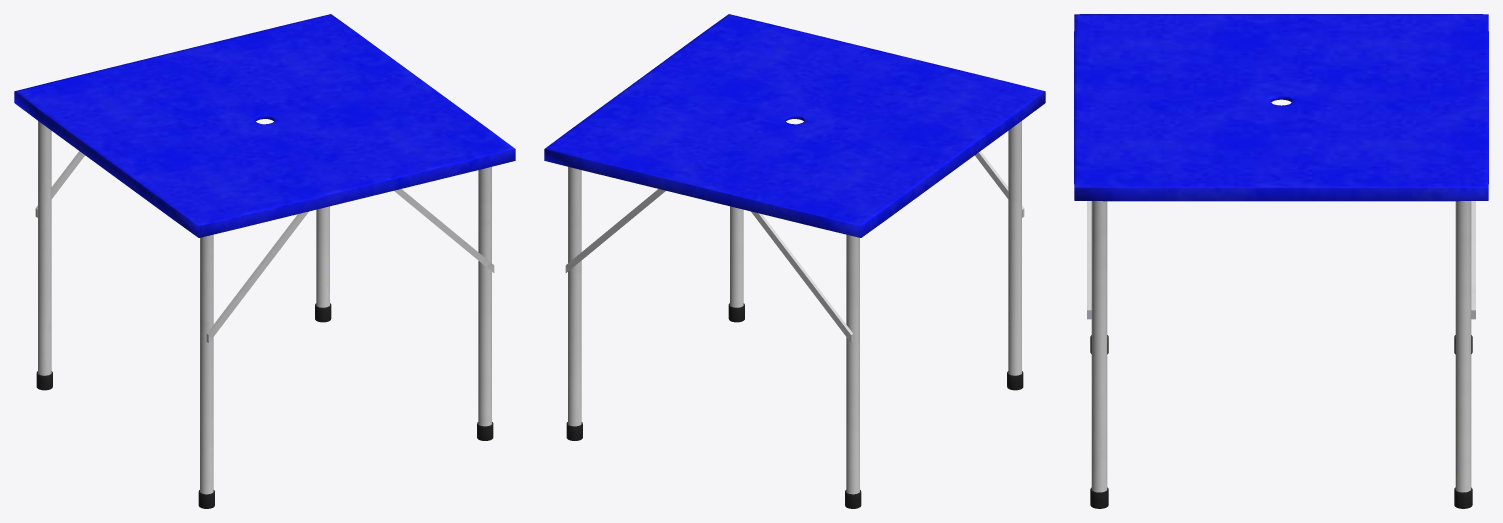
Rendered from Table41.glb.
3 renders of one model, left to right at view 1: azimuth 30°, elevation 25°; view 2: azimuth 150°, elevation 25°; view 3: azimuth 270°, elevation 25°, orthographic. The views are drawn at different scales.
Parts seen in each view (by area): view 1: Table41_model; view 2: Table41_model; view 3: Table41_model.
Part boxes in pixels (x1,y1,x2,y2): Table41_model: [14, 14, 515, 508]; Table41_model: [544, 14, 1045, 508]; Table41_model: [1074, 14, 1488, 508].
Size of the model in its own units: 1.78 by 1.56 by 1.79.
Materials: 1 (1 with a texture image).
